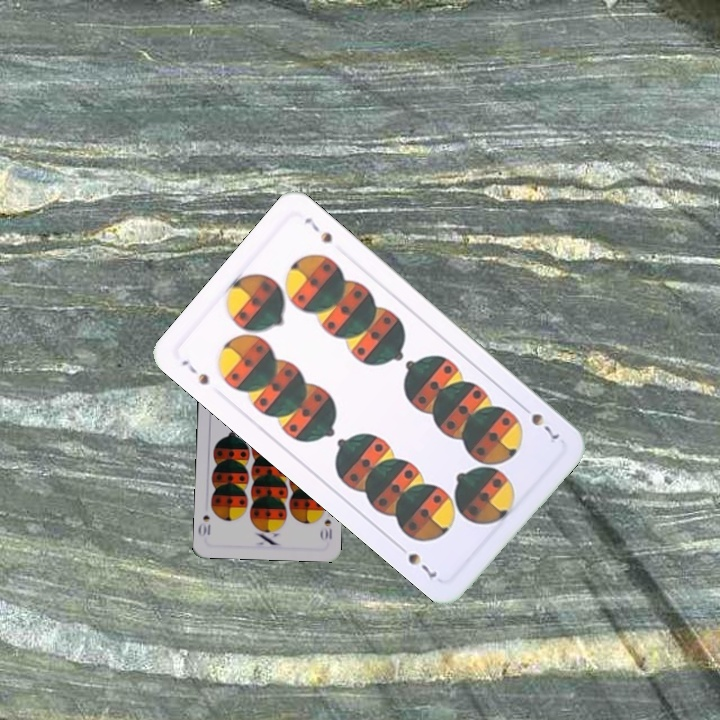S10: (317, 515, 334, 543)
S7: (516, 400, 563, 443), (177, 355, 212, 388)
